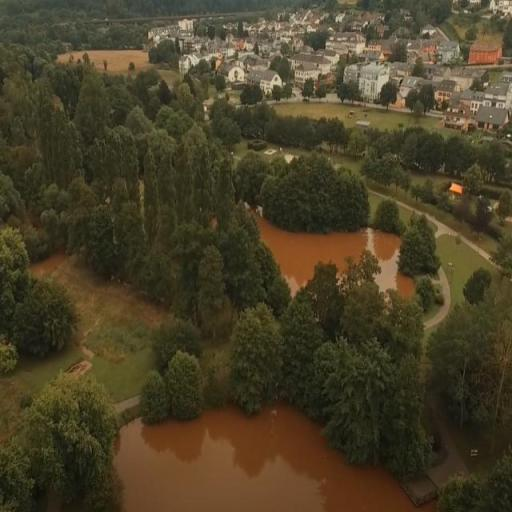flood: (115, 405, 433, 512), (258, 218, 414, 296), (57, 50, 150, 73)
house: (464, 35, 506, 68), (358, 60, 388, 104), (476, 103, 510, 134), (326, 31, 364, 56), (441, 101, 472, 131), (484, 80, 512, 103), (438, 79, 462, 104), (259, 70, 282, 93), (295, 62, 319, 83)
